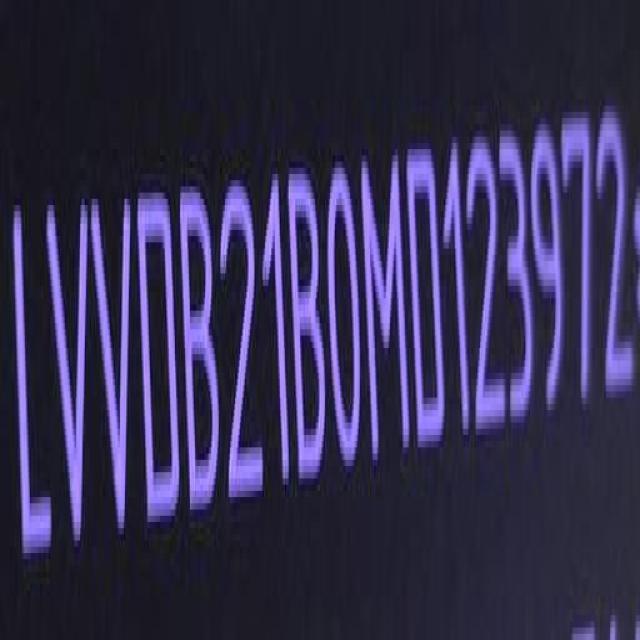0: (326, 160, 363, 482)
1: (262, 173, 292, 501), (439, 134, 465, 450)
2: (222, 182, 263, 518), (464, 132, 501, 445), (599, 105, 636, 410)
3: (503, 130, 535, 436)
7: (562, 107, 596, 417)
9: (530, 120, 566, 426)
B: (182, 182, 225, 526), (292, 161, 330, 489)
D: (136, 186, 180, 536), (410, 145, 447, 458)
L: (10, 202, 52, 573)
M: (365, 146, 414, 471)
V: (45, 199, 93, 558), (94, 186, 139, 548)
